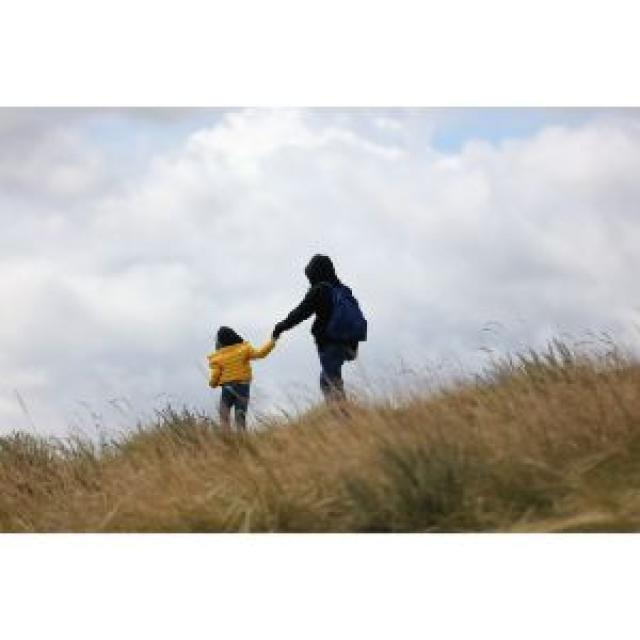nonfall: (283, 244, 382, 414), (195, 314, 272, 448)
